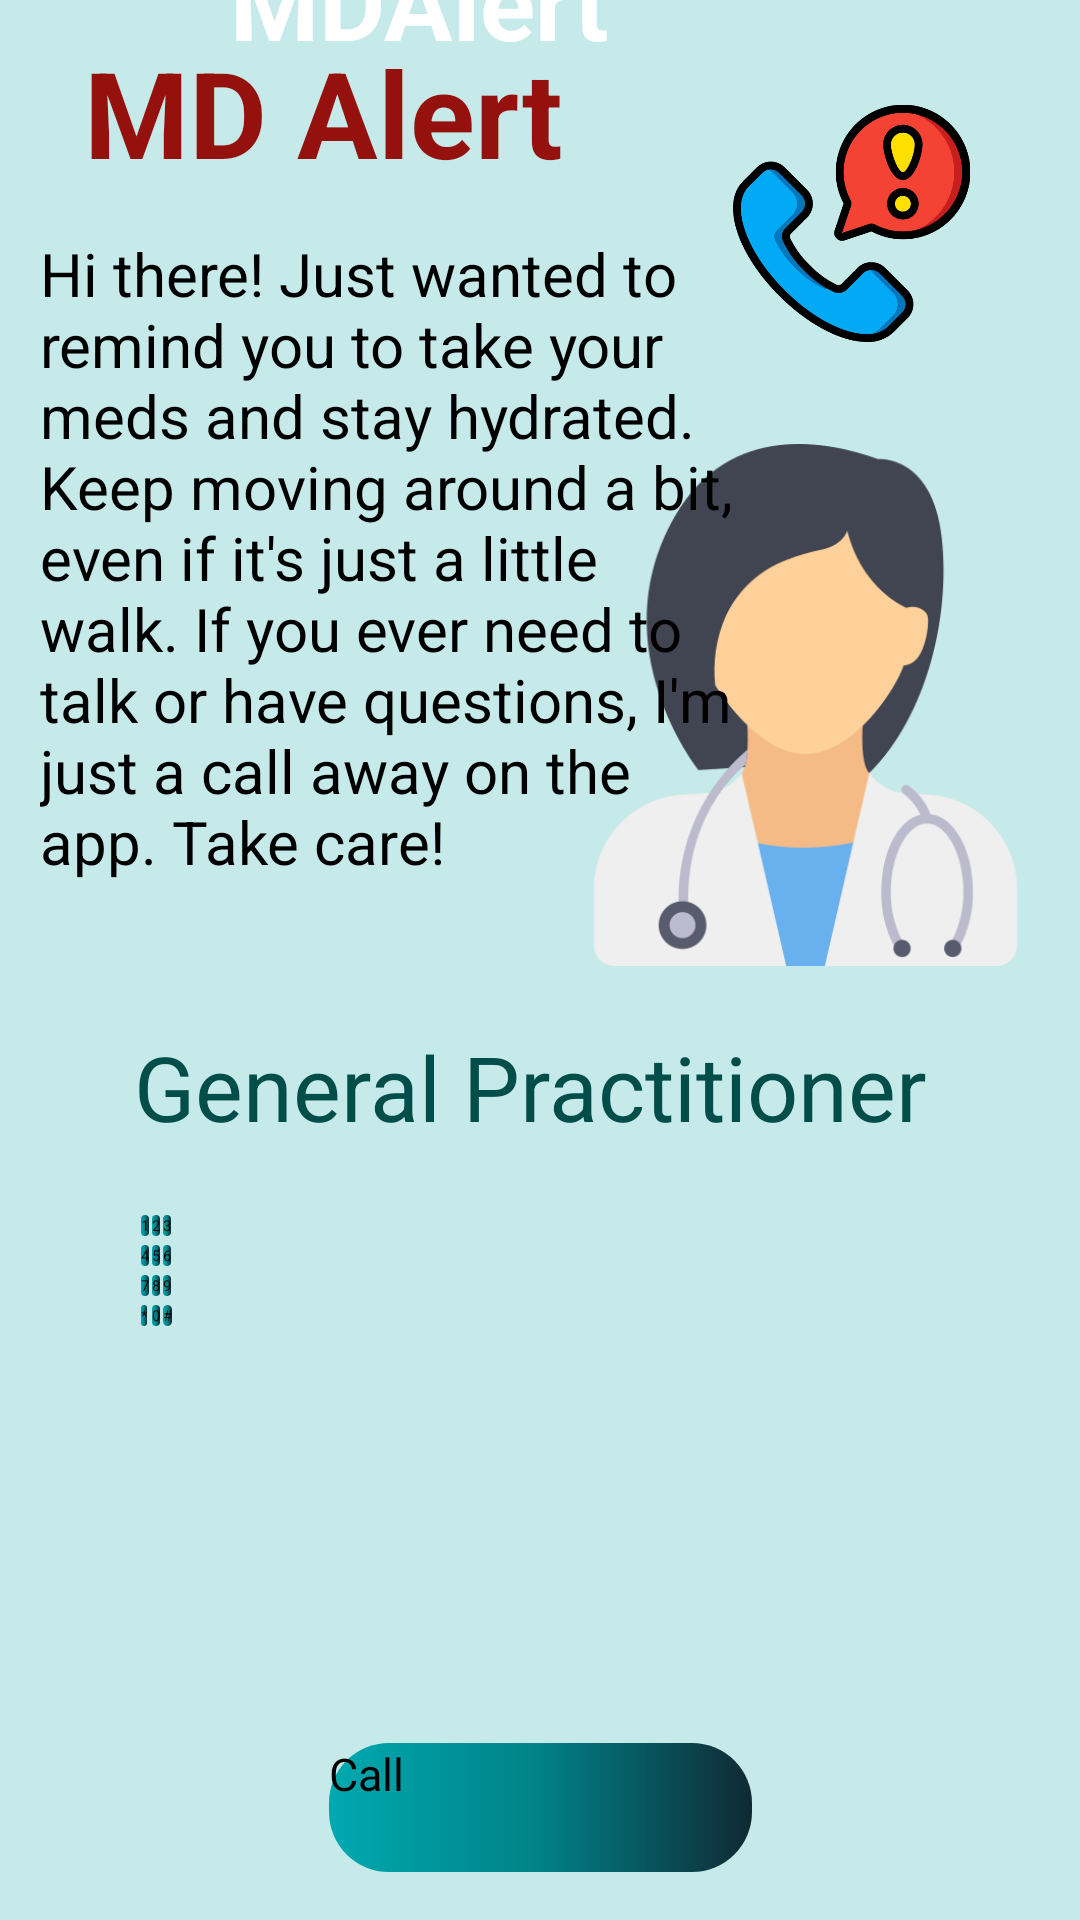

Screen size 1080*1920. Icon name, then its center in pixels as (x,y):
phone: (851,223)
